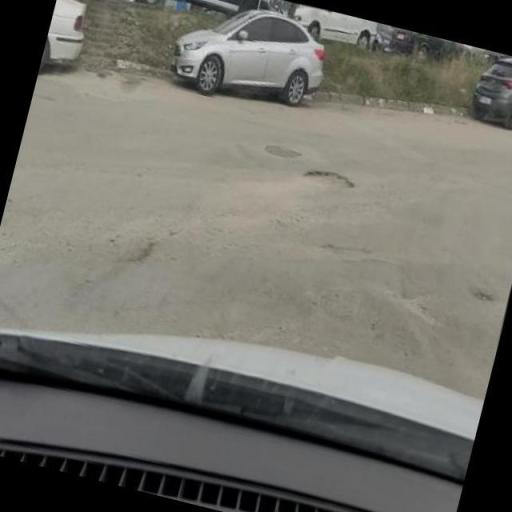pothole: (177, 90, 512, 269)
